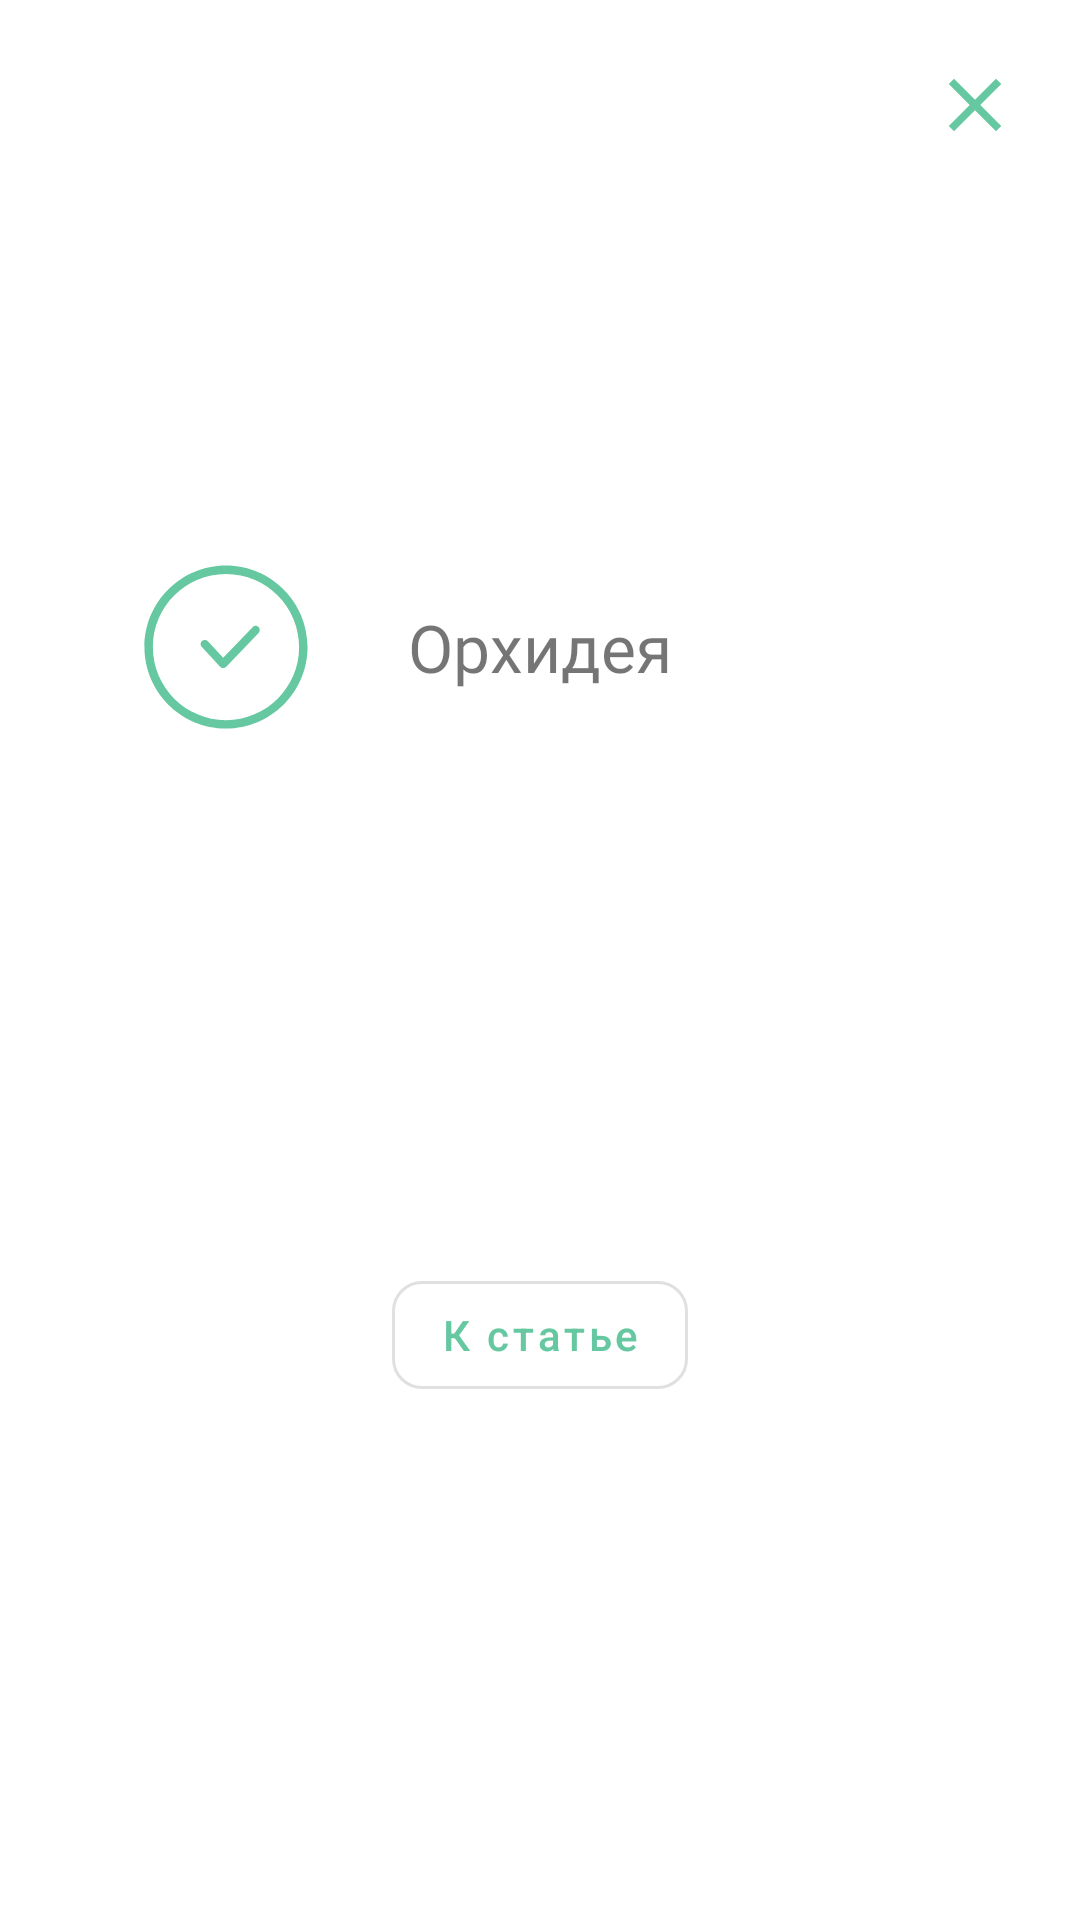

Where to tap for icons on this 1080*1920 app screen, as (x,y):
close: (975,105)
done: (226,647)
